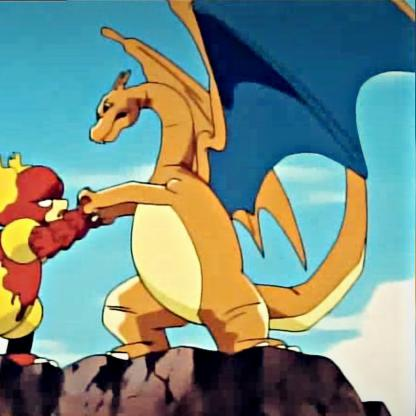Charizard: (80, 1, 416, 369)
